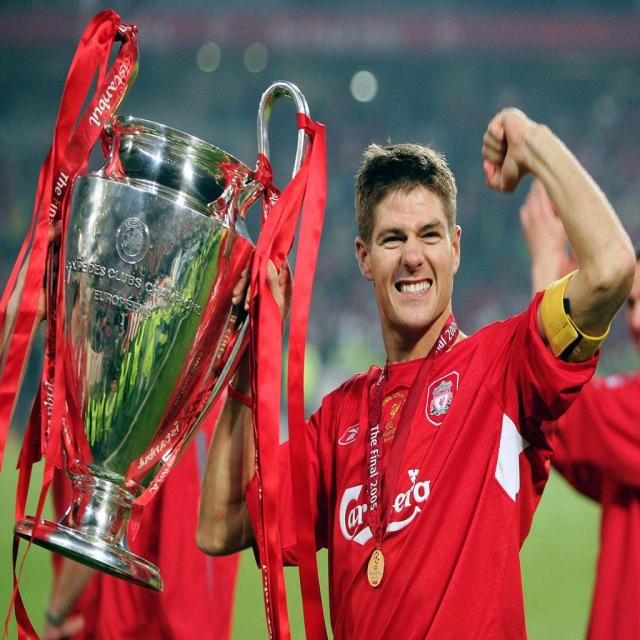Face: (366, 160, 460, 335)
